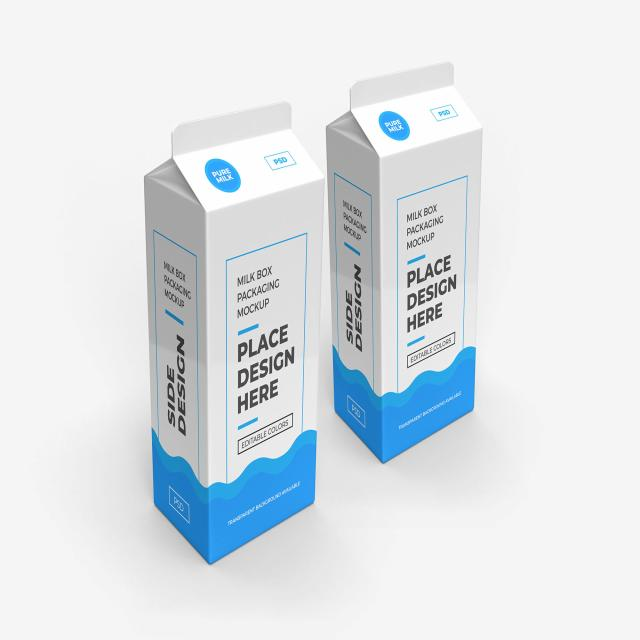non_white_jug: (138, 81, 334, 568), (324, 46, 491, 464)
